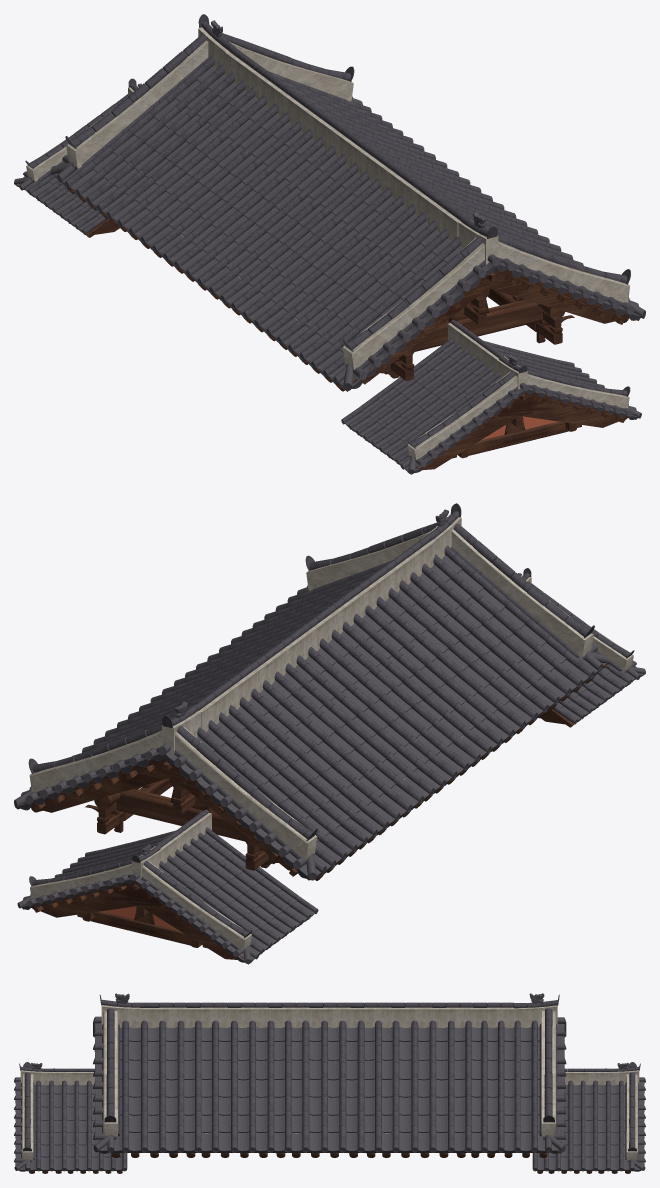
Rendered from SM_R_Oisammun.fbx.
3 renders of one model, top to bottom at view 1: azimuth 30°, elevation 25°; view 2: azimuth 150°, elevation 25°; view 3: azimuth 270°, elevation 25°, orthographic. The views are drawn at different scales.
Visible parts, largest first — view 1: SM_R_Oisammun; view 2: SM_R_Oisammun; view 3: SM_R_Oisammun.
Boxes of the visible parts, left/top/right/bottom form: SM_R_Oisammun: left=14, top=14, right=645, bottom=474; SM_R_Oisammun: left=14, top=503, right=645, bottom=964; SM_R_Oisammun: left=14, top=993, right=645, bottom=1173.
Size of the model in its own units: 826 by 1879 by 480.
7 materials, 7 textured.
